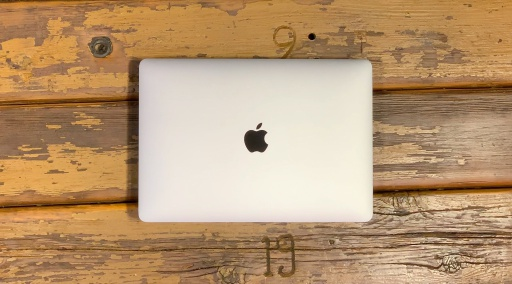apple: (230, 121, 282, 159)
